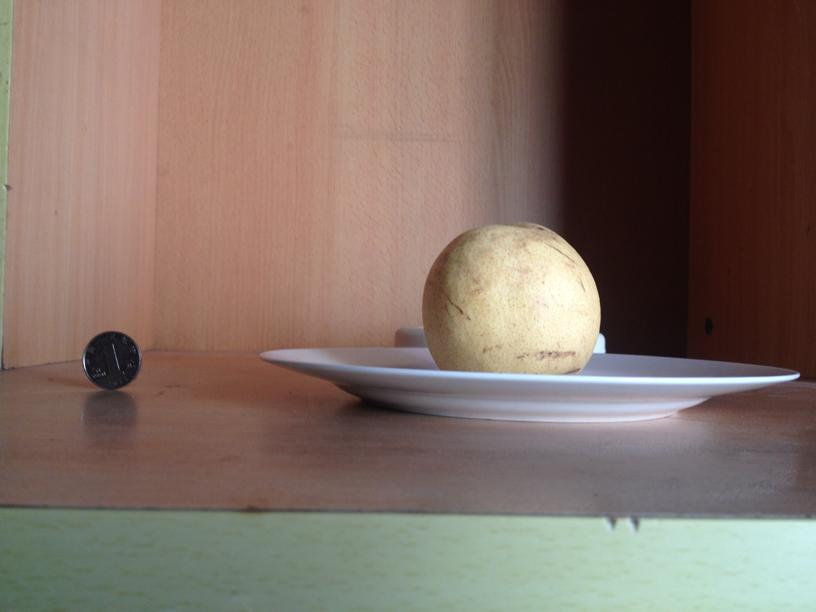coin: (81, 330, 141, 387)
pear: (424, 216, 599, 375)
